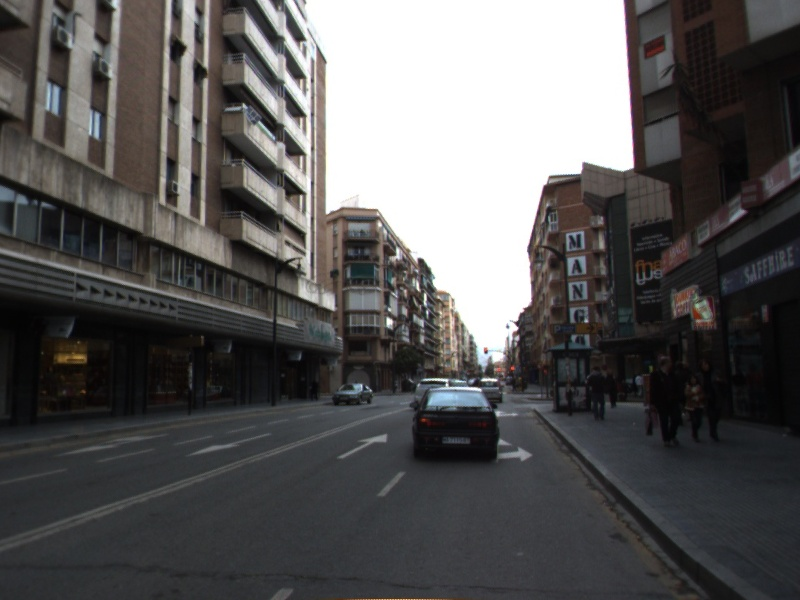STRAIGHT: (335, 431, 389, 461)
STRAIGHT_RIGHT: (494, 408, 520, 419)
